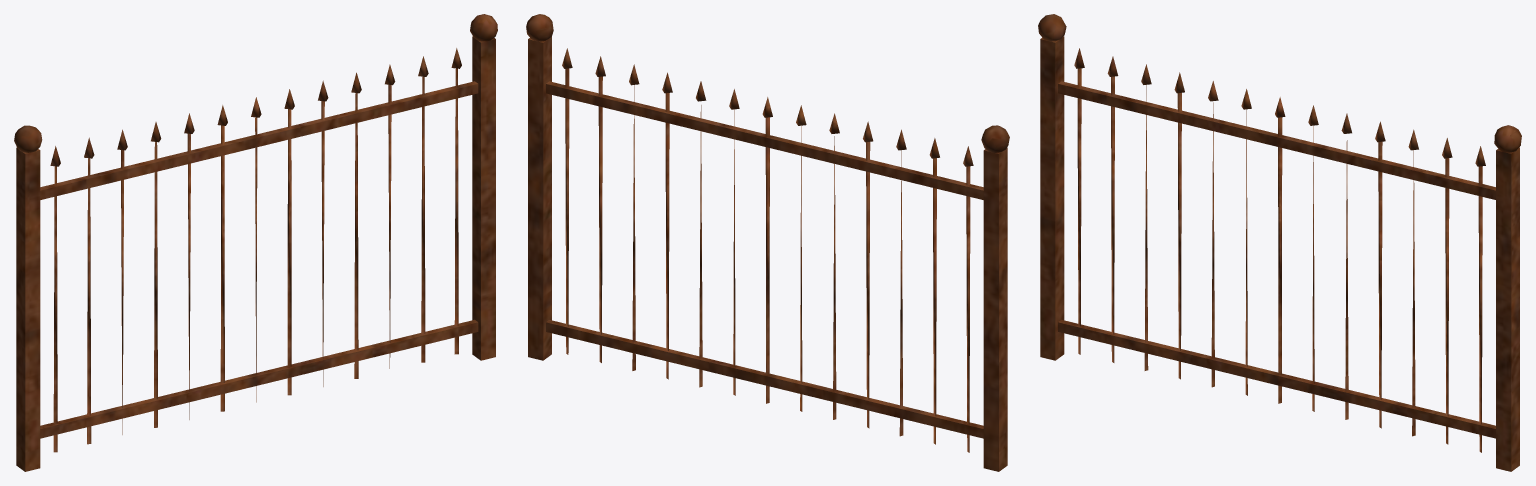
Rendered from fence.glb.
3 renders of one model, left to right at view 1: azimuth 30°, elevation 25°; view 2: azimuth 150°, elevation 25°; view 3: azimuth 330°, elevation 25°, orthographic.
Parts seen in each view (by area): view 1: Main; view 2: Main; view 3: Main.
Part boxes in pixels (bbox=[...]): Main: bbox=[14, 14, 497, 471]; Main: bbox=[526, 14, 1009, 471]; Main: bbox=[1038, 14, 1521, 471].
Bounding box in the file's own units: 3.16 × 2.14 × 0.1615.
1 material, 1 textured.
